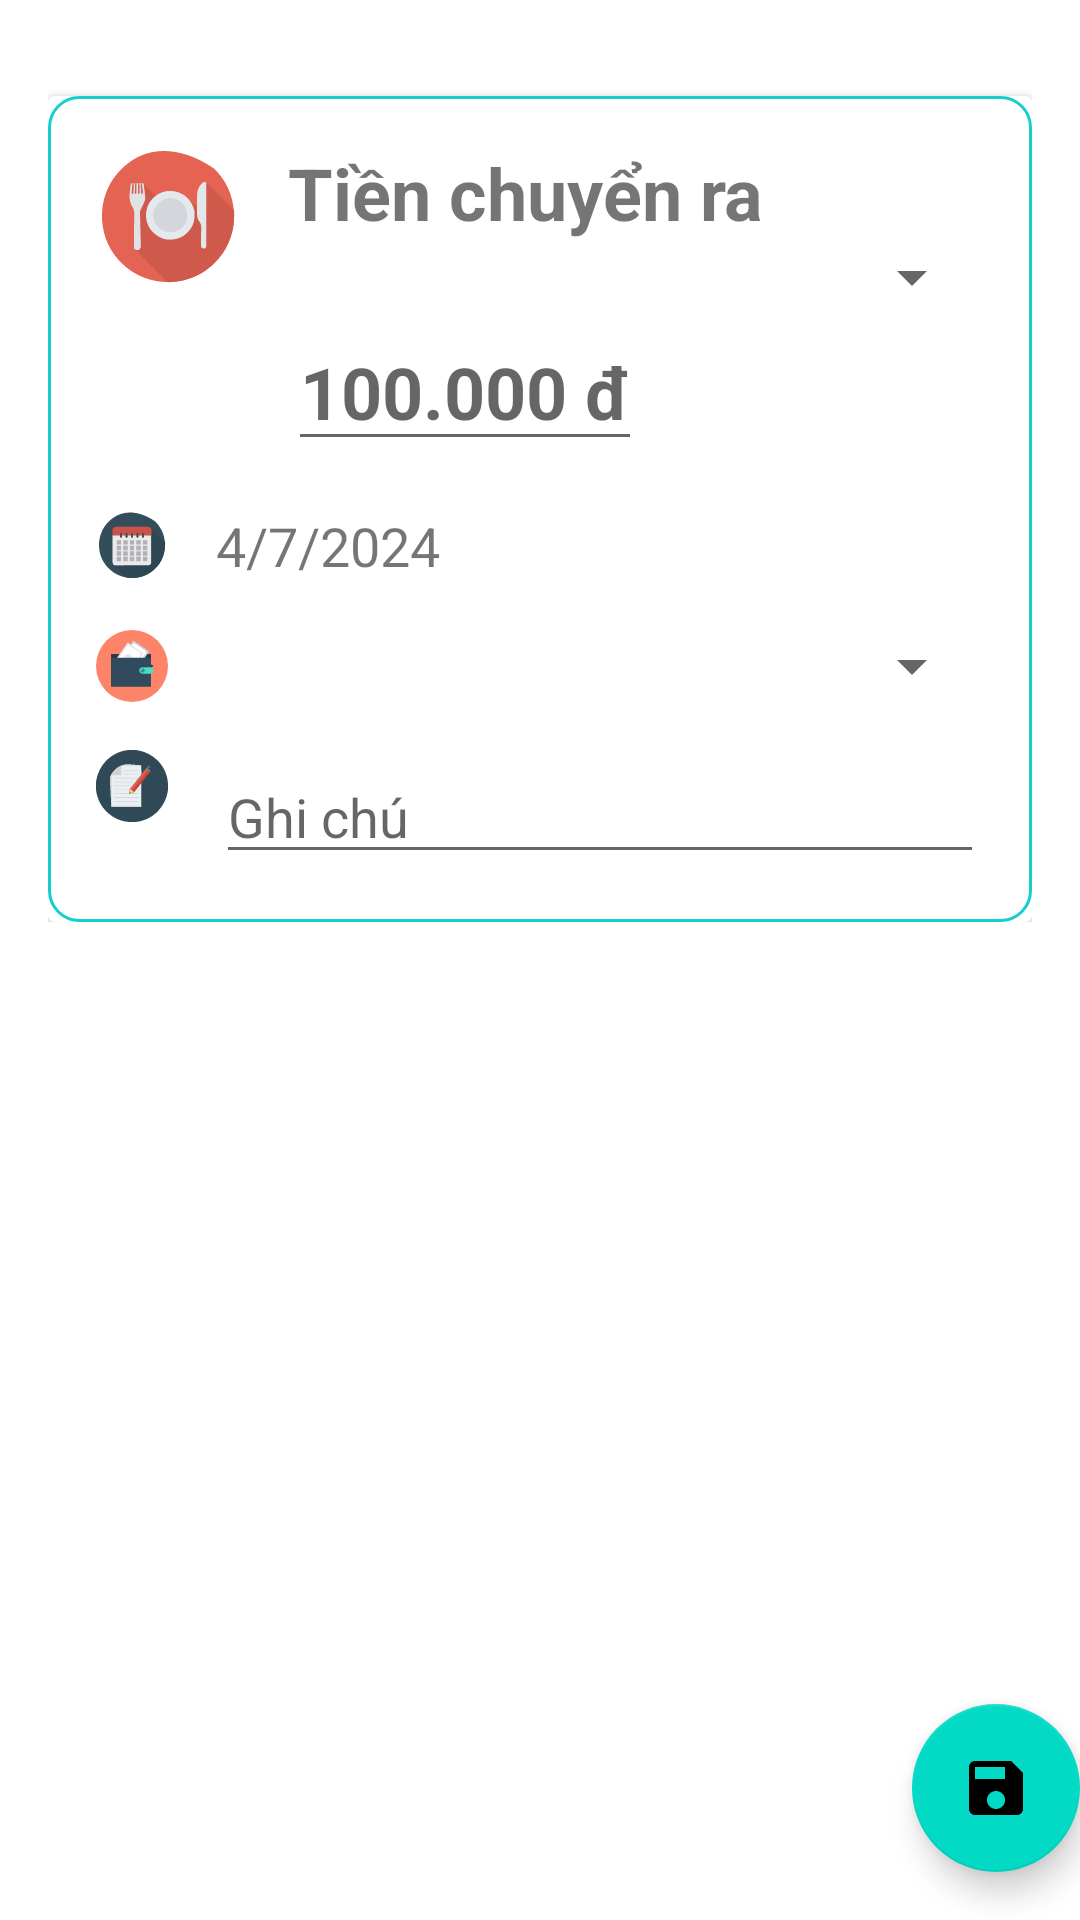

Where to tap for icons on this 1080 x 1920 app screen, as point (x, y):
calendar: point (132, 545)
Food icon: point (168, 217)
note: point (132, 786)
save: point (996, 1788)
wallet: point (132, 666)
